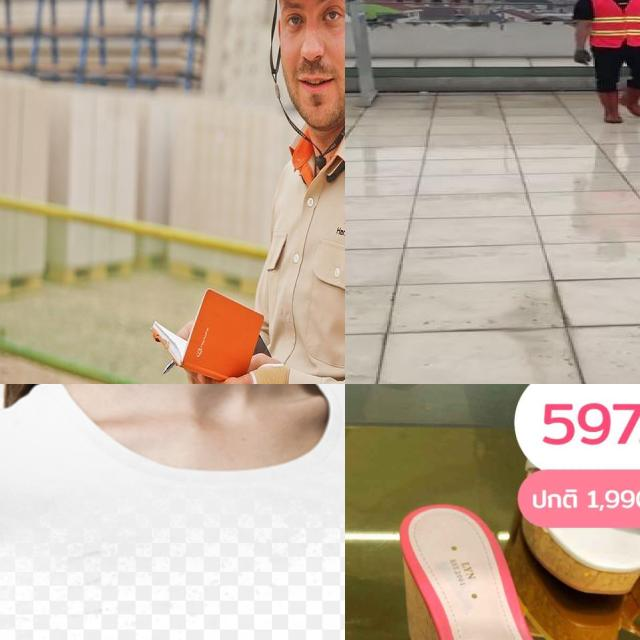No_Ear-Protection: (266, 0, 345, 125)
Sandals: (392, 471, 640, 640), (345, 481, 557, 640)
boots: (574, 47, 594, 65)
person: (569, 0, 640, 125)
vest: (589, 0, 640, 48)
